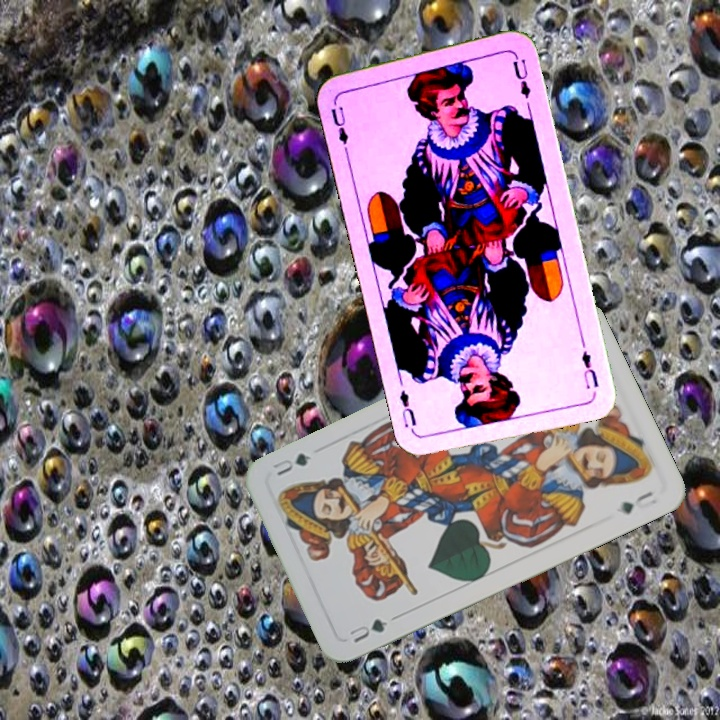EU: (327, 102, 351, 154), (577, 346, 601, 392)
GU: (345, 614, 391, 646)
